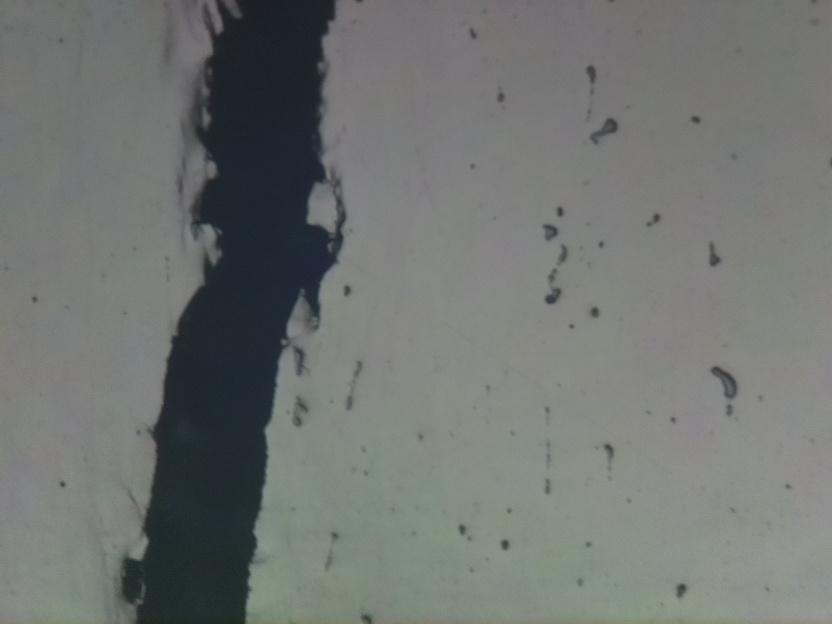crack: (129, 0, 340, 622)
